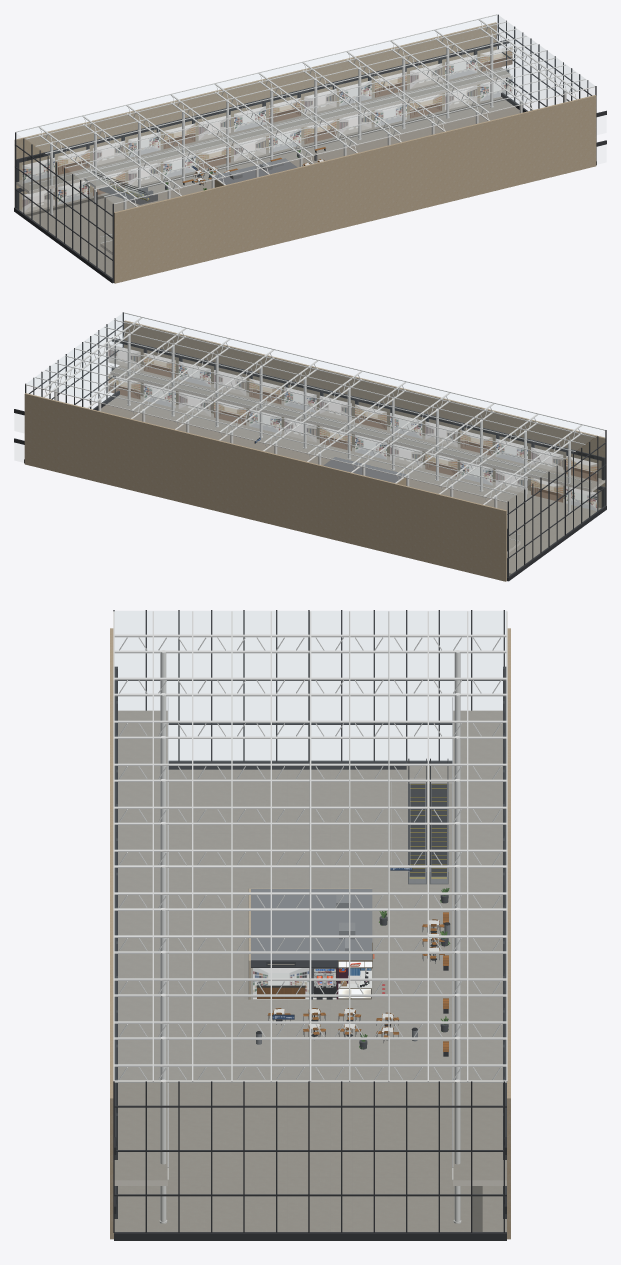
Rendered from laden.glb.
3 views of the same model, one above another, from view 1: azimuth 30°, elevation 25°; view 2: azimuth 150°, elevation 25°; view 3: azimuth 270°, elevation 25° (orthographic). The views are drawn at different scales.
Visible parts, largest first — view 1: galerie|halle_wand|0, hallendach|dachglas|-1, hallendach|stahl_weiss|0, halle|halle_boden|0, galerie|laden_presse|0, galerie|laden_mode|0, hallendach|fries|0, galerie|laden_baeckerei|0, galerie|halle_boden|0, galerie|saeule|0, galerie|halle_decke|0, halle|halle_band|0 (+10 smaller); view 2: galerie|halle_wand|0, hallendach|dachglas|-1, hallendach|stahl_weiss|0, halle|halle_boden|0, galerie|laden_baeckerei|0, galerie|laden_mode|0, galerie|laden_presse|0, hallendach|fries|0, galerie|halle_boden|0, galerie|saeule|0, galerie|halle_decke|0, hallendach|stahl_weiss|1 (+8 smaller); view 3: hallendach|dachglas|-1, halle|halle_boden|0, galerie|halle_boden|0, hallendach|stahl_weiss|0, hallendach|fries|0, fries|dach_technik|0, galerie|saeule|0, galerie|halle_wand|0, hallendach|stahl_weiss|1, halle|stufe|0, halle|fuge|0, galerie|fries|0 (+7 smaller).
Boxes of the visible parts, x1,y1,x2,y2 form: galerie|halle_wand|0: (14, 22, 596, 283); hallendach|dachglas|-1: (18, 15, 593, 202); hallendach|stahl_weiss|0: (16, 14, 595, 206); halle|halle_boden|0: (20, 96, 519, 277); galerie|laden_presse|0: (22, 54, 512, 204); galerie|laden_mode|0: (22, 63, 477, 212); hallendach|fries|0: (14, 14, 596, 283); galerie|laden_baeckerei|0: (57, 46, 512, 195); galerie|halle_boden|0: (17, 67, 509, 252); galerie|saeule|0: (50, 35, 566, 214); galerie|halle_decke|0: (16, 74, 510, 254); halle|halle_band|0: (26, 98, 505, 216); galerie|halle_wand|0: (24, 320, 605, 581); hallendach|dachglas|-1: (28, 313, 603, 500); hallendach|stahl_weiss|0: (25, 312, 605, 504); halle|halle_boden|0: (101, 395, 600, 573); galerie|laden_baeckerei|0: (108, 353, 597, 502); galerie|laden_mode|0: (108, 344, 563, 494); galerie|laden_presse|0: (143, 361, 597, 510); hallendach|fries|0: (24, 312, 606, 581); galerie|halle_boden|0: (111, 365, 603, 549); galerie|saeule|0: (54, 334, 570, 512); galerie|halle_decke|0: (110, 372, 605, 553); hallendach|stahl_weiss|1: (45, 321, 570, 501); hallendach|dachglas|-1: (114, 611, 506, 1079); halle|halle_boden|0: (114, 769, 506, 1231); galerie|halle_boden|0: (114, 710, 506, 1180); hallendach|stahl_weiss|0: (113, 611, 507, 1082); hallendach|fries|0: (113, 610, 506, 1240); fries|dach_technik|0: (251, 889, 372, 960); galerie|saeule|0: (160, 650, 460, 1221); galerie|halle_wand|0: (110, 628, 510, 1239); hallendach|stahl_weiss|1: (119, 637, 501, 1080); halle|stufe|0: (409, 783, 446, 876); halle|fuge|0: (169, 770, 451, 1231); galerie|fries|0: (114, 666, 506, 1218).
Bounding box in the file's own units: 84.3 × 13.87 × 29.6.
Materials: 148 (61 with a texture image).
